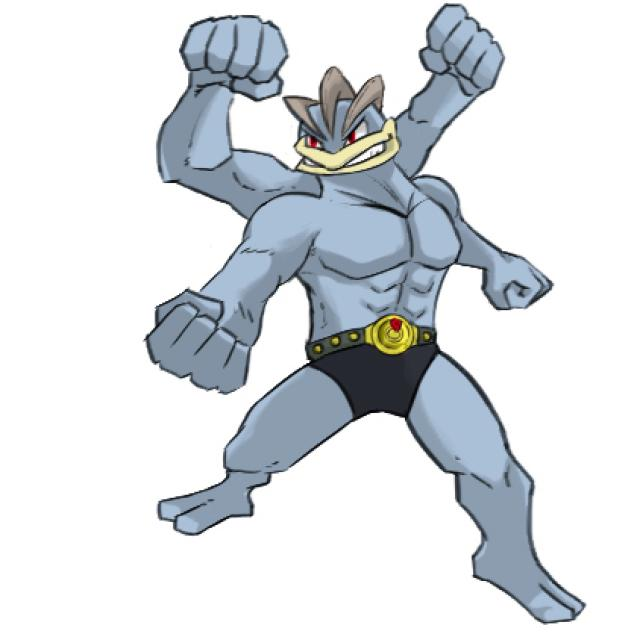Machamp: (152, 5, 528, 581)
